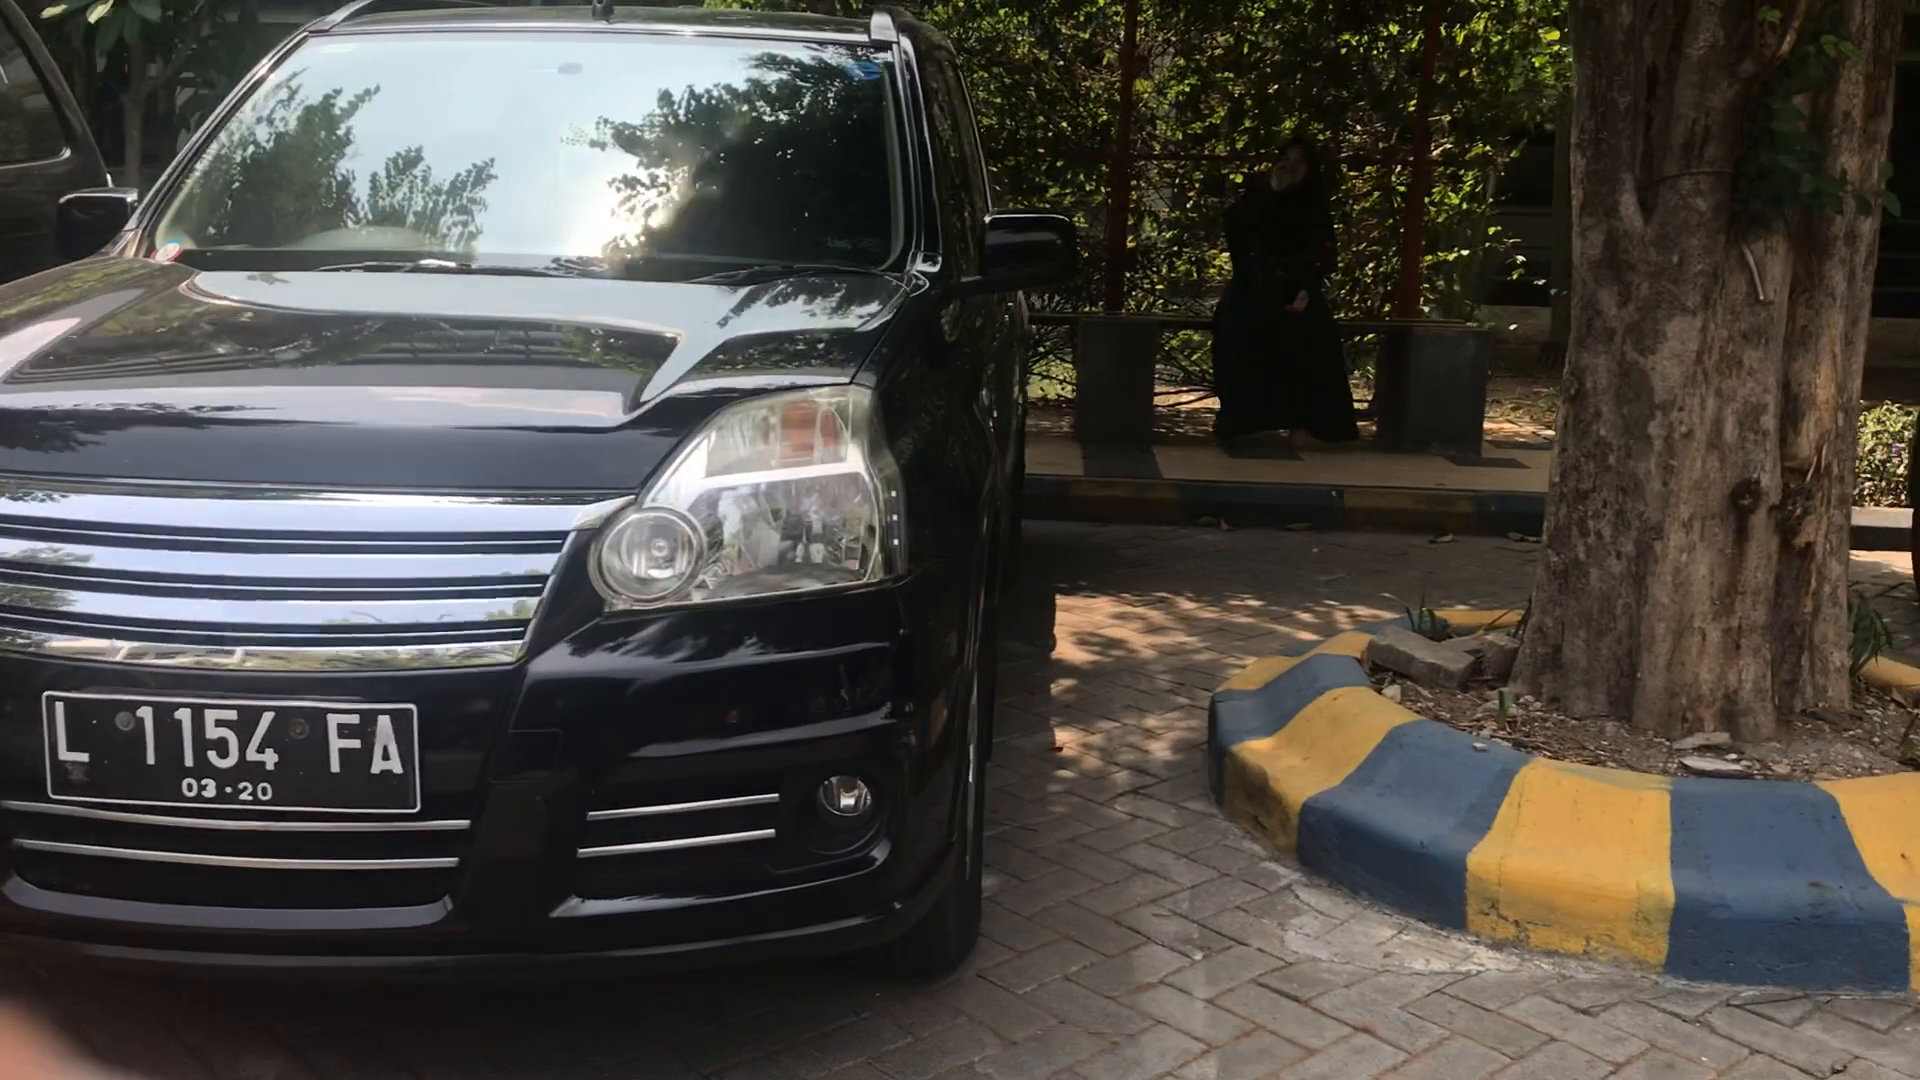plate: (45, 702, 415, 795)
